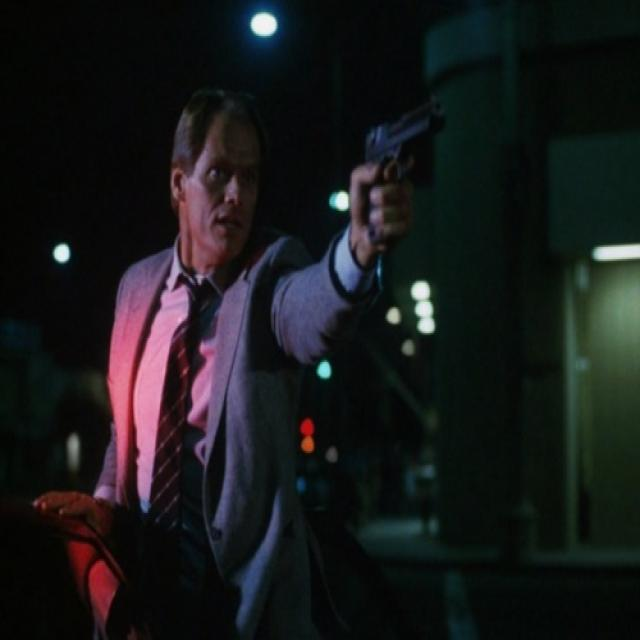weapons: (349, 75, 462, 254)
